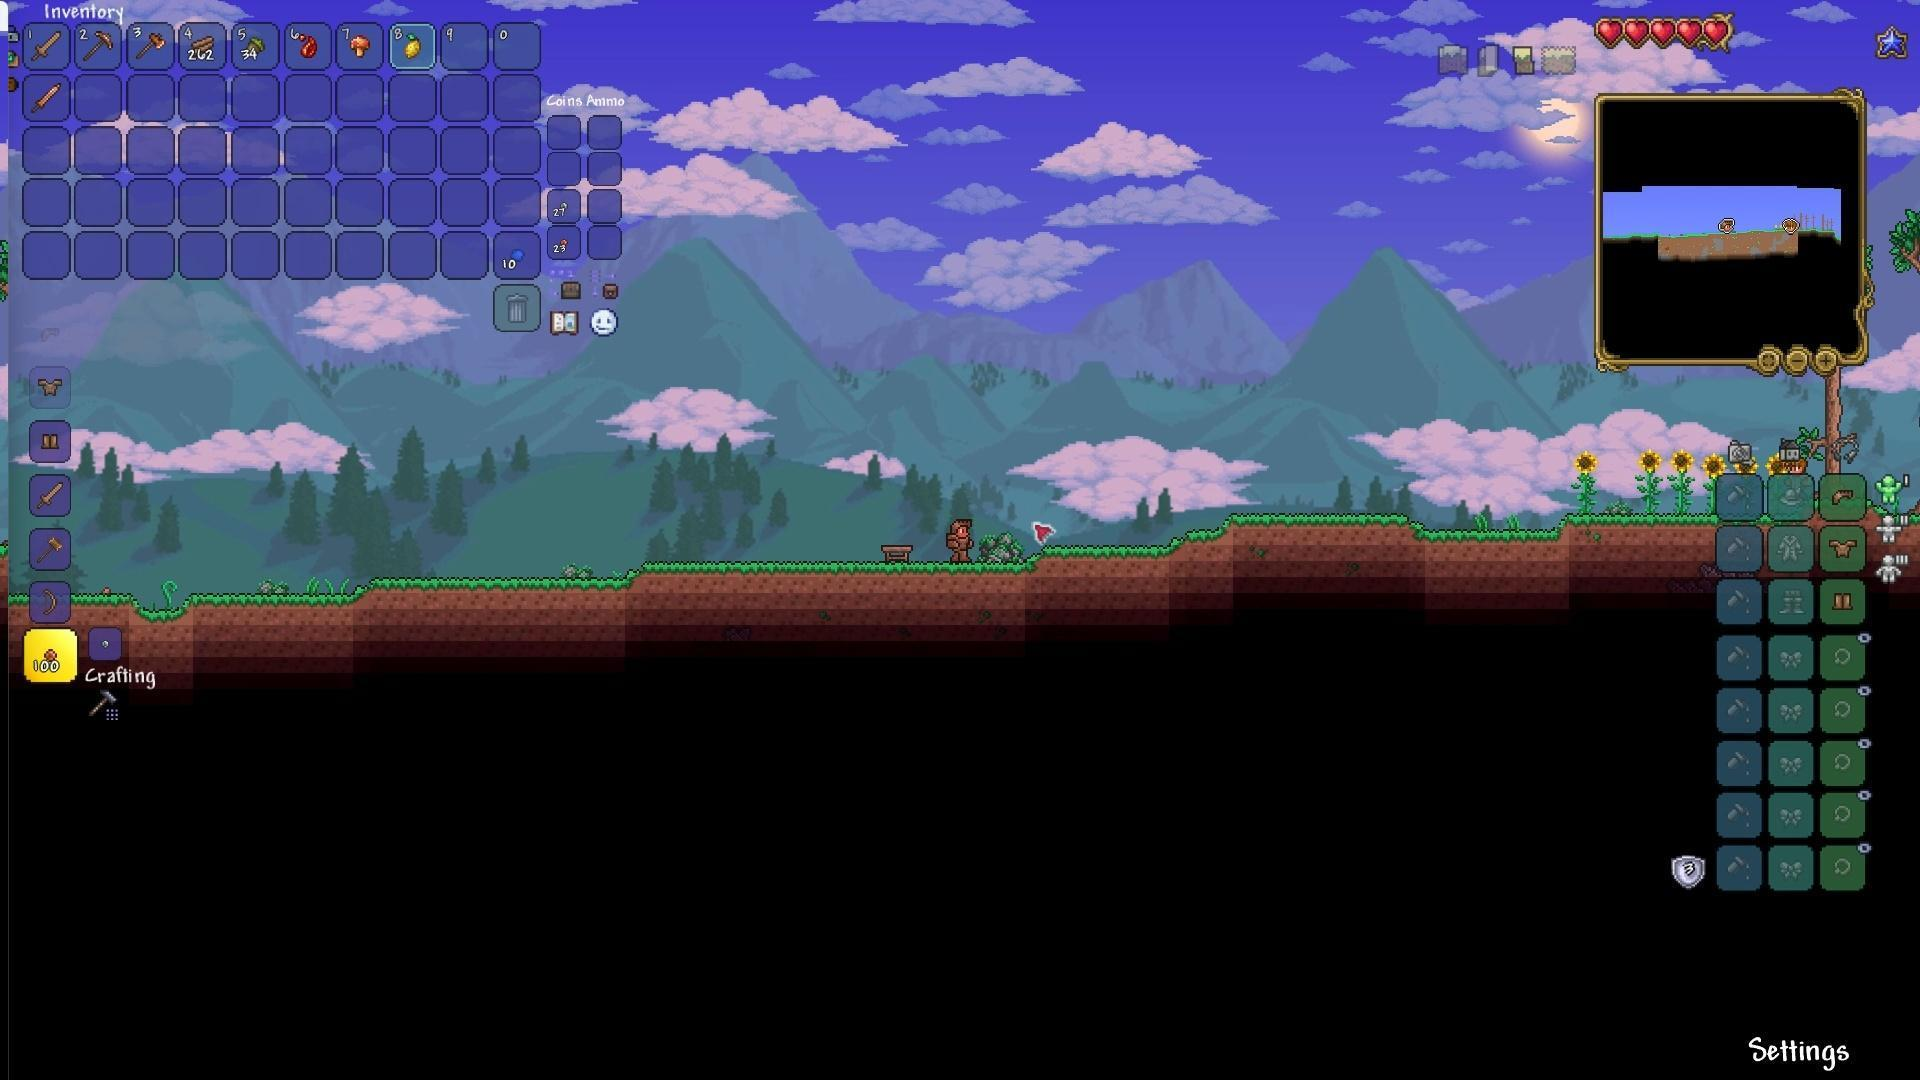dirt: (1178, 504, 1713, 551), (638, 541, 1027, 587), (353, 566, 640, 628), (1034, 524, 1174, 585), (183, 587, 353, 621), (74, 583, 133, 617), (137, 604, 185, 626)
heart: (1597, 16, 1625, 46), (1677, 18, 1704, 49), (1626, 18, 1652, 49), (1704, 18, 1730, 49), (1650, 18, 1676, 49)
